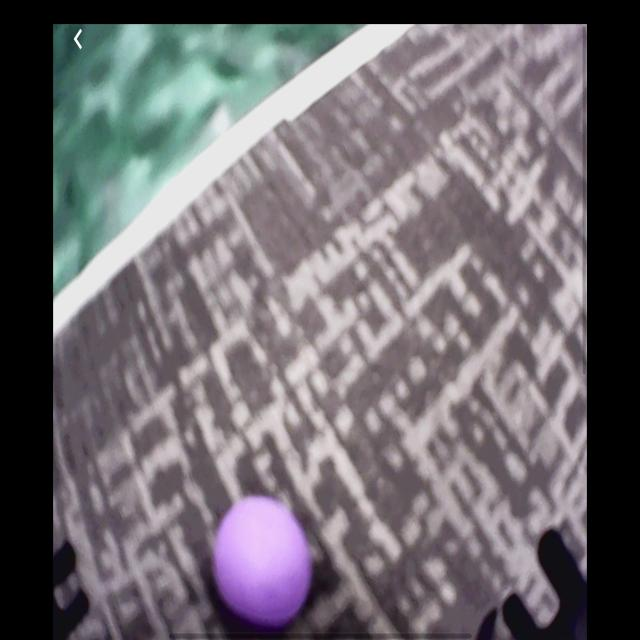ball: (214, 499, 311, 627)
